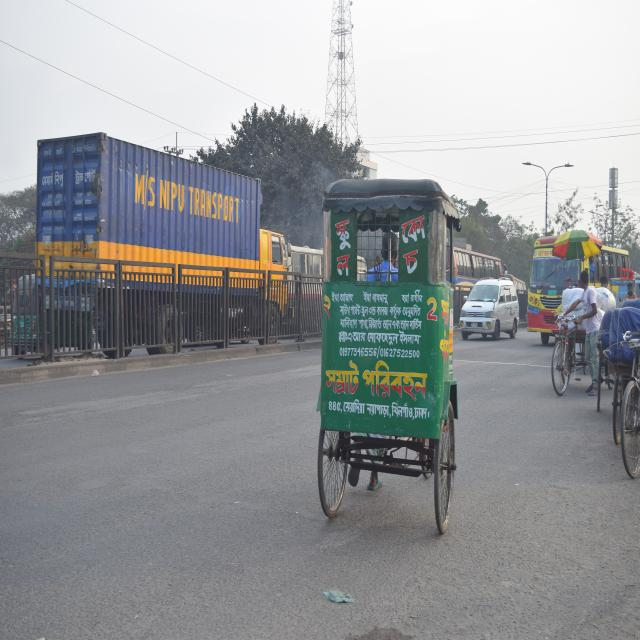bus: (524, 234, 632, 338)
car: (462, 272, 522, 340)
truck: (33, 122, 290, 356)
